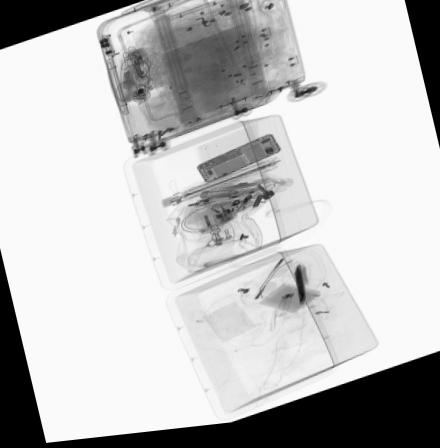Lighter: (273, 299, 293, 324)
